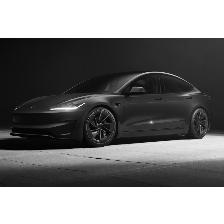EV: (11, 67, 214, 144)
